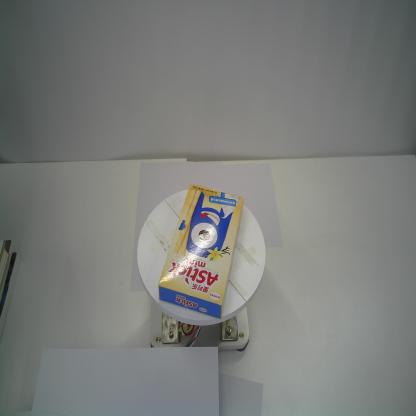Dessert: (159, 182, 243, 320)
